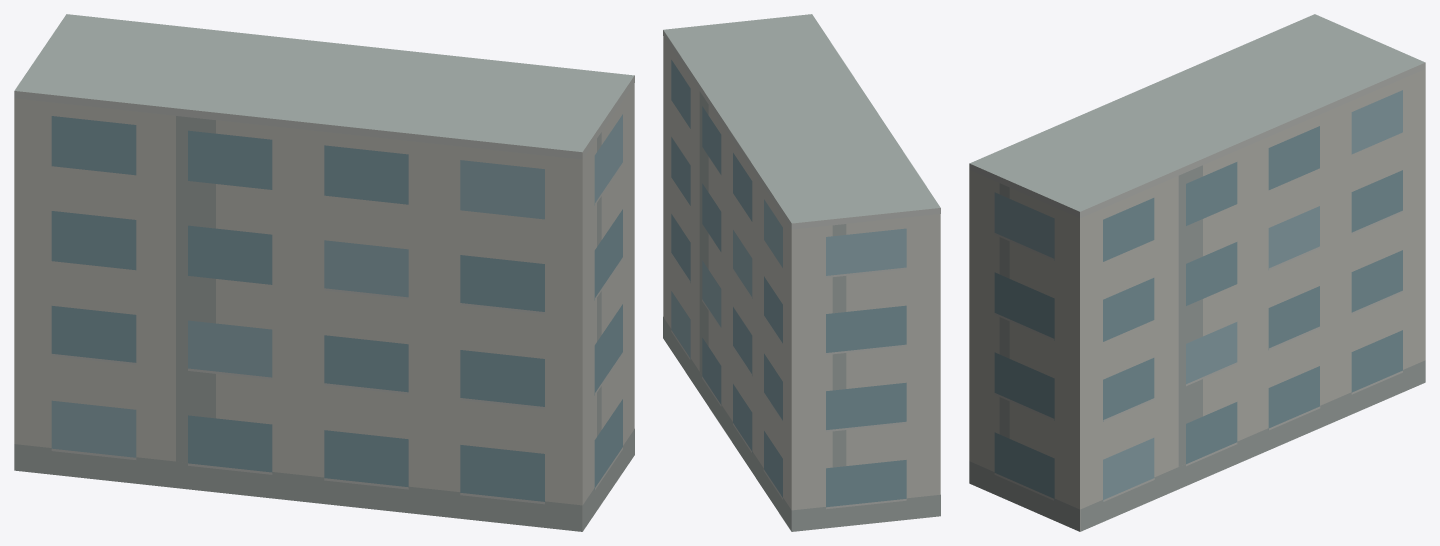
The model's file is survey-upis-32688887.glb.
3 views of the same model, side by side, from view 1: azimuth 30°, elevation 25°; view 2: azimuth 150°, elevation 25°; view 3: azimuth 270°, elevation 25° (orthographic). The views are drawn at different scales.
Visible parts, largest first — view 1: survey-upis-32688887.tmp; view 2: survey-upis-32688887.tmp; view 3: survey-upis-32688887.tmp.
Part boxes in pixels (x1=…): survey-upis-32688887.tmp: x1=14, y1=14, x2=634, y2=531; survey-upis-32688887.tmp: x1=663, y1=14, x2=940, y2=531; survey-upis-32688887.tmp: x1=969, y1=14, x2=1425, y2=531.
Size of the model in its own units: 16.18 by 12.2 by 15.77.
